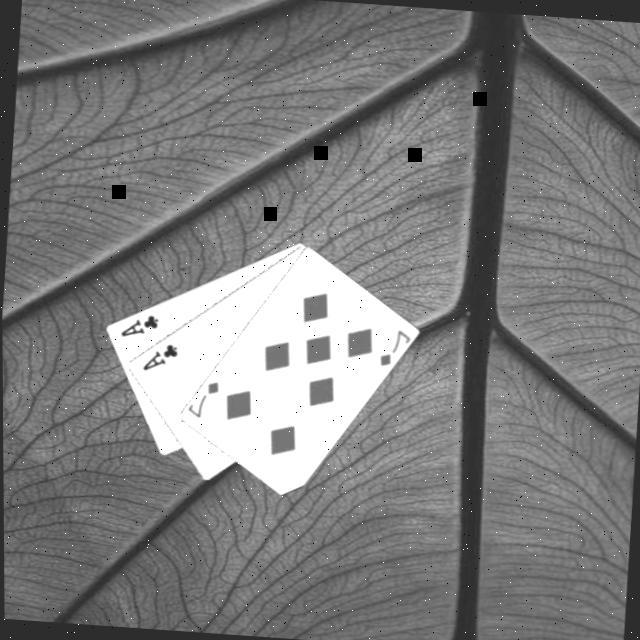7D: (182, 374, 221, 420), (373, 323, 410, 369)
AC: (136, 336, 178, 375), (115, 307, 160, 340)
